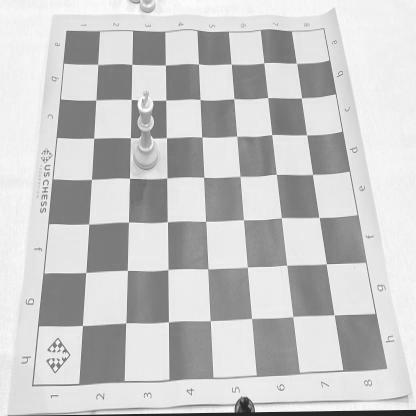white-king: (132, 88, 160, 174)
